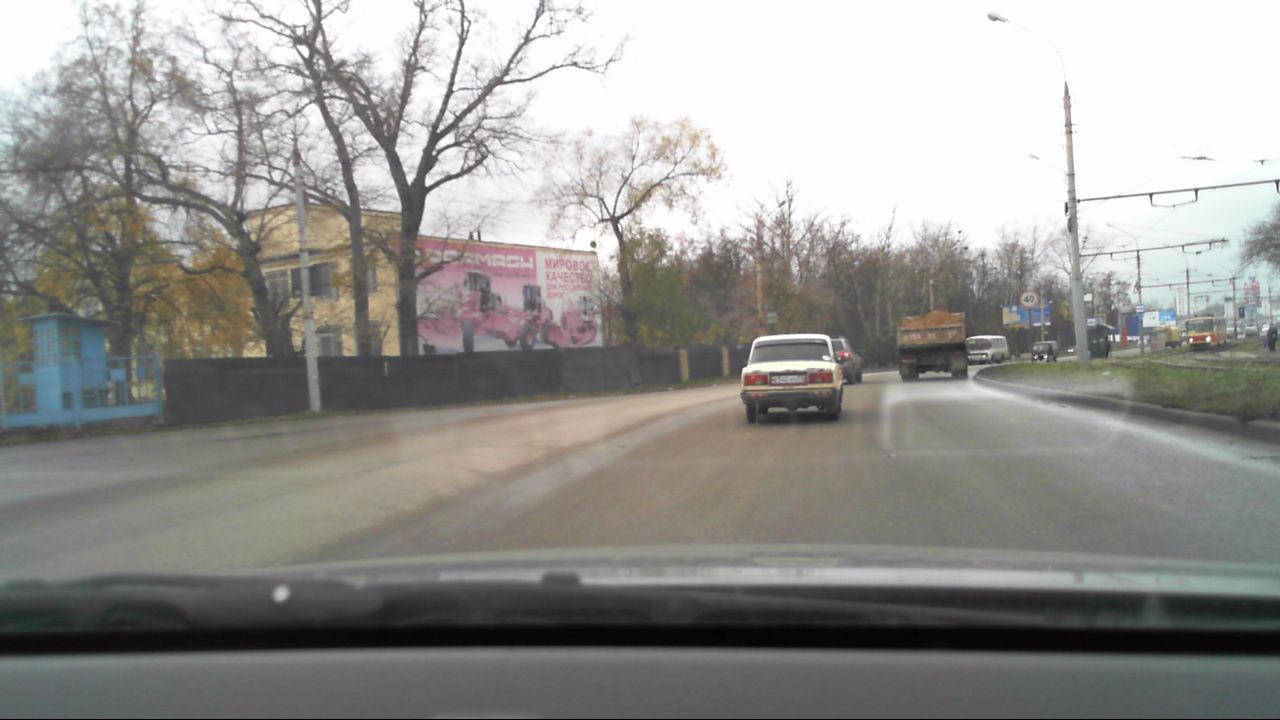speed_warning_40: (1019, 287, 1039, 308)
